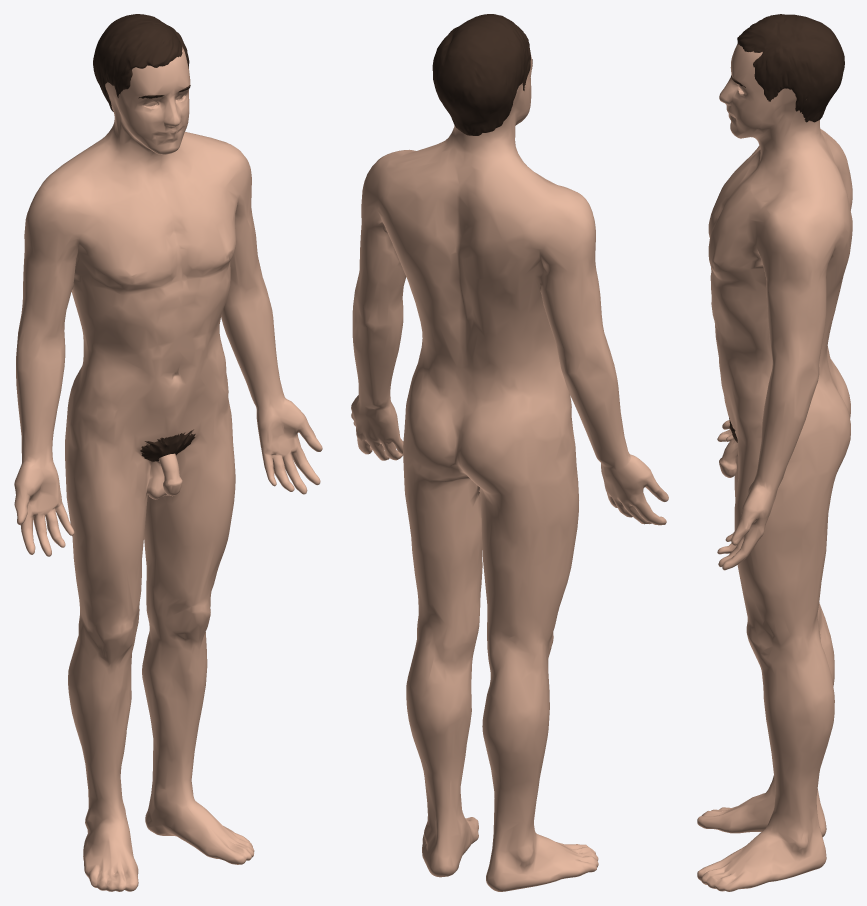
File: pele.glb
3 renders of one model, left to right at view 1: azimuth 30°, elevation 25°; view 2: azimuth 150°, elevation 25°; view 3: azimuth 270°, elevation 25°, orthographic. The views are drawn at different scales.
Parts seen in each view (by area): view 1: FMA7163, FMA54241, FMA54319; view 2: FMA7163, FMA54241; view 3: FMA7163, FMA54241.
Part boxes in pixels (box(x1,y1,x2,y2)): FMA7163: box(14, 47, 322, 891); FMA54241: box(93, 14, 189, 111); FMA54319: box(140, 429, 195, 461); FMA7163: box(351, 54, 668, 891); FMA54241: box(432, 14, 530, 135); FMA7163: box(697, 44, 852, 891); FMA54241: box(737, 14, 844, 122).
Size of the model in its own units: 0.6667 by 1.73 by 0.292.
